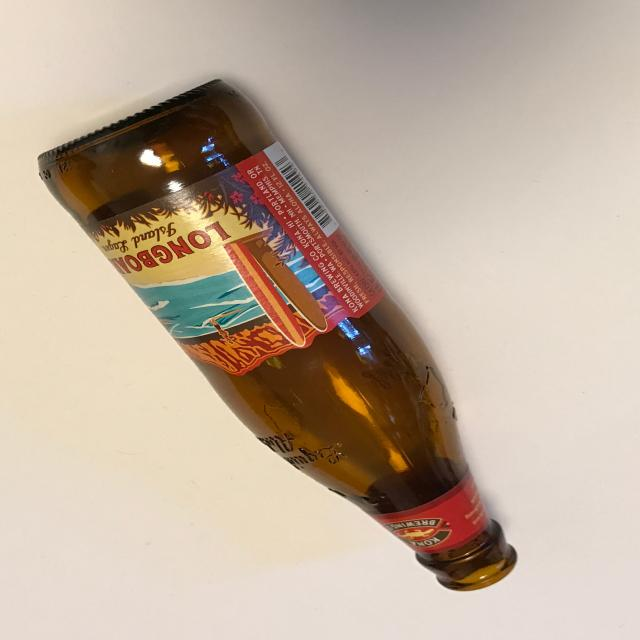glass: (16, 62, 546, 601)
